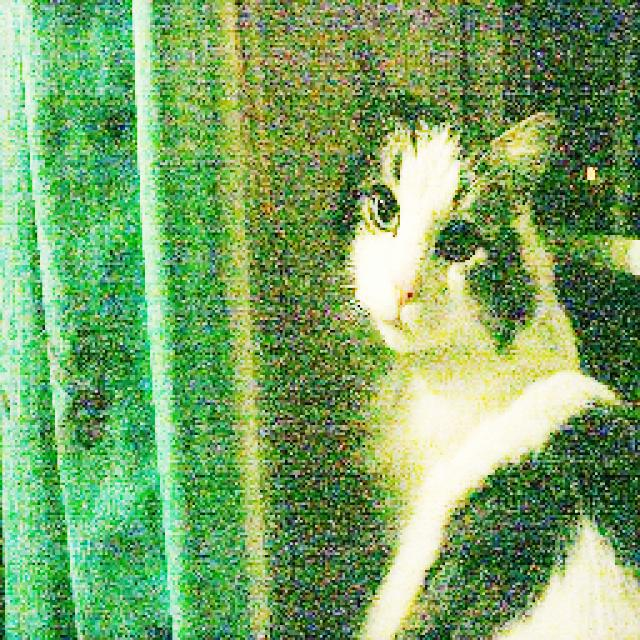cat: (293, 15, 640, 640)
